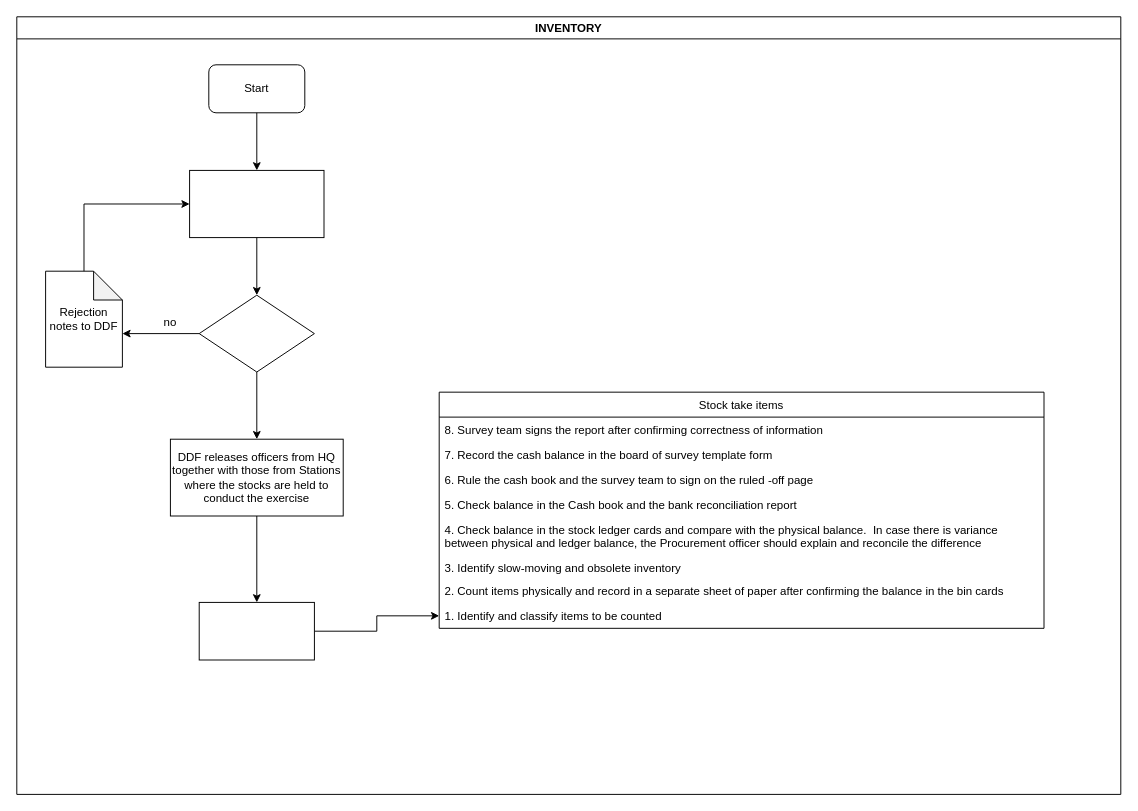
This 1138x811 diagram has some shape labels left out. The centre of each missing label's shape, as x and y in pixels:
"DDF office requests the Director for authority to conduct stock take" belongs at (256,203).
"Director approves?" belongs at (256,333).
"Stock take team follows the following procedure" belongs at (256,630).
